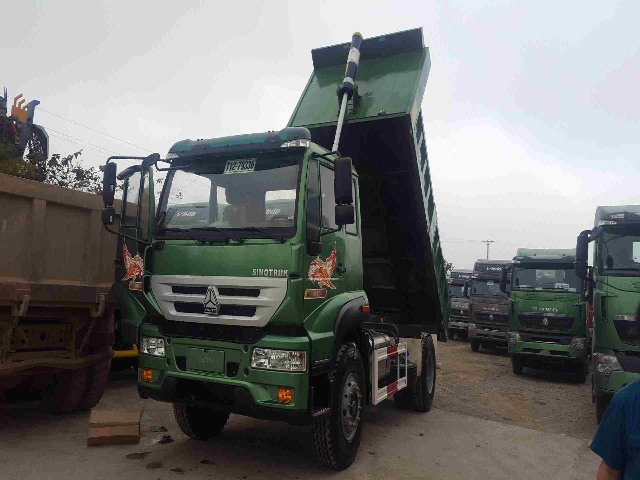Xe_tai_ben: (96, 20, 456, 472)
